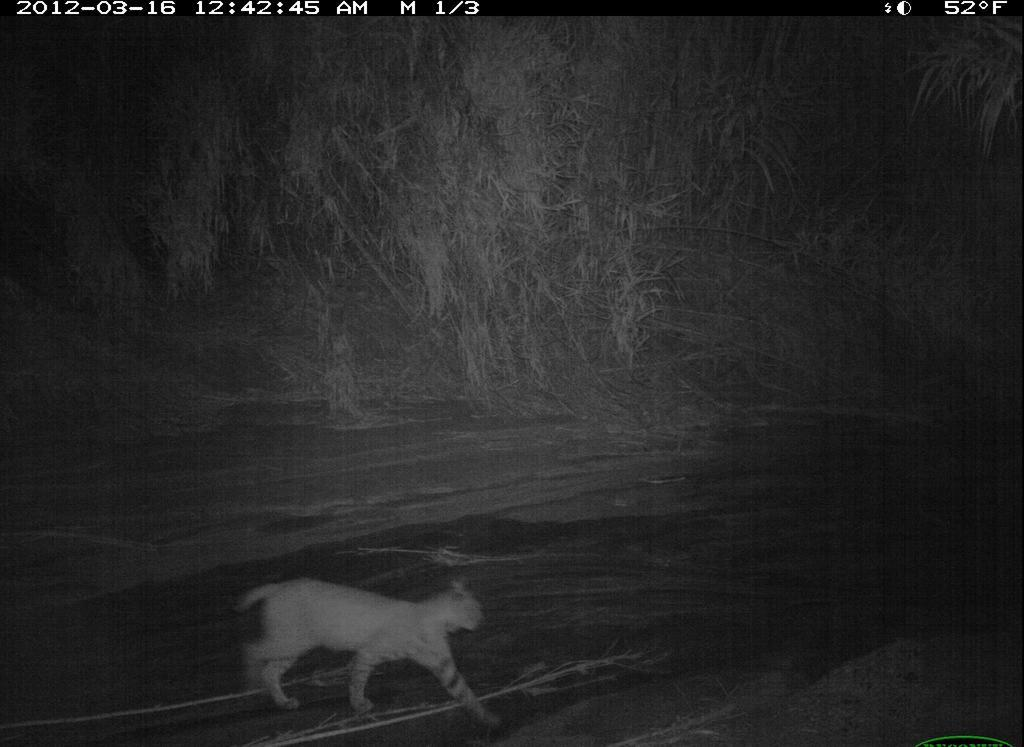bobcat: (210, 560, 532, 743)
